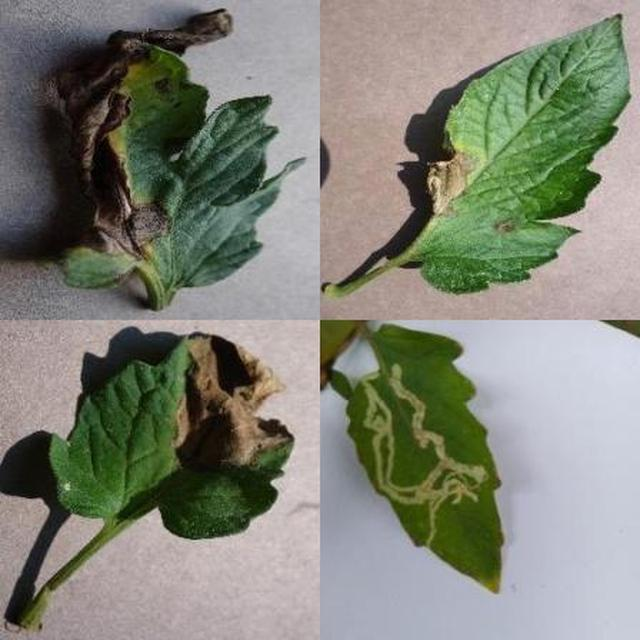Early Blight Leaf: (229, 218, 640, 640)
